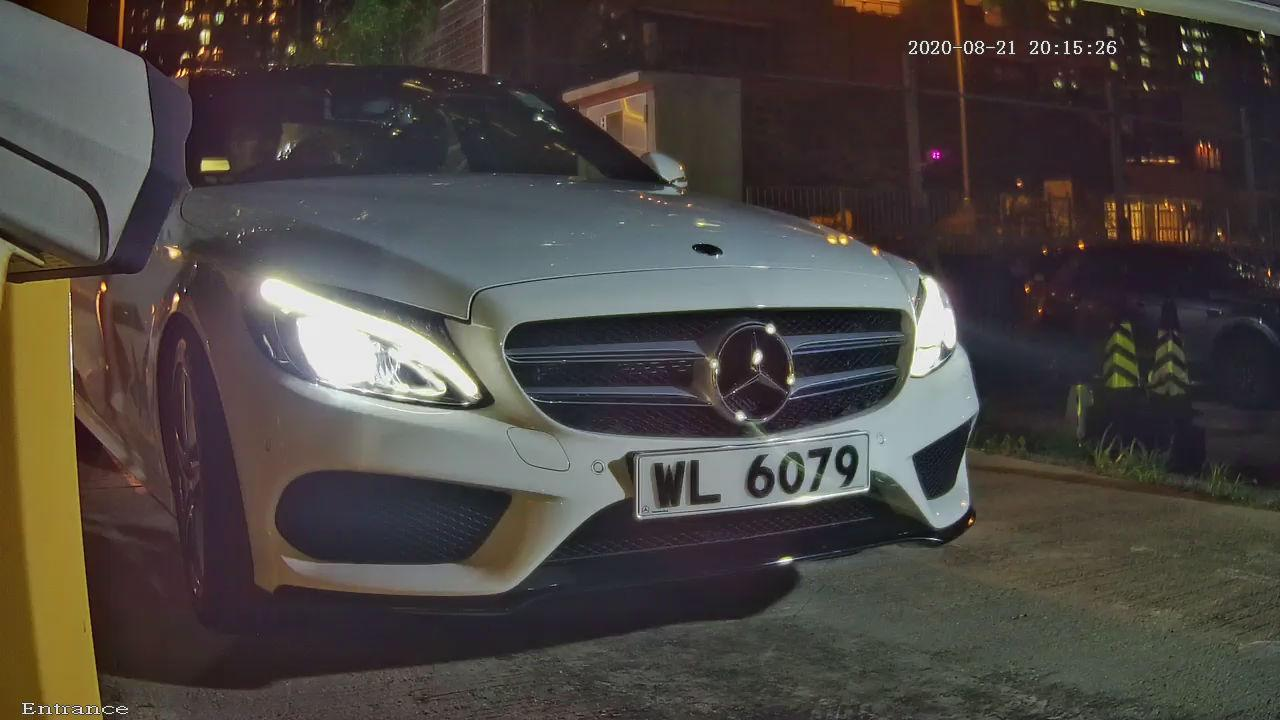Car: (52, 1, 1138, 666)
License Plate: (602, 422, 903, 552)
